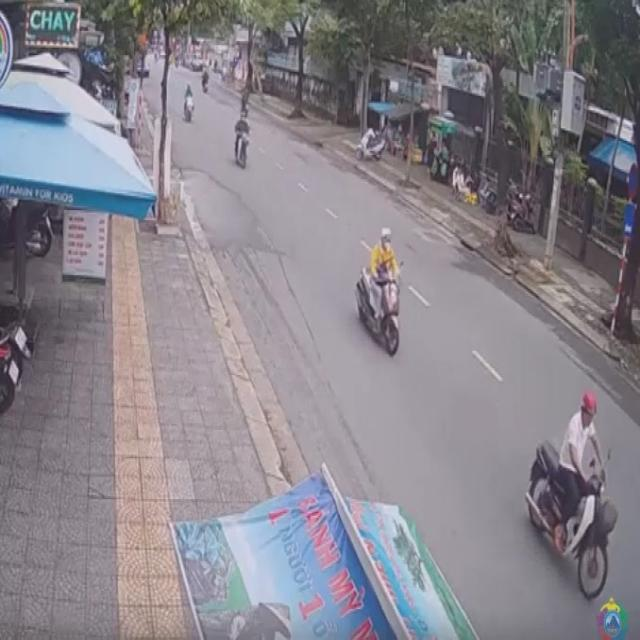motorbike: (523, 395, 619, 605), (354, 229, 404, 360), (233, 110, 247, 171)
